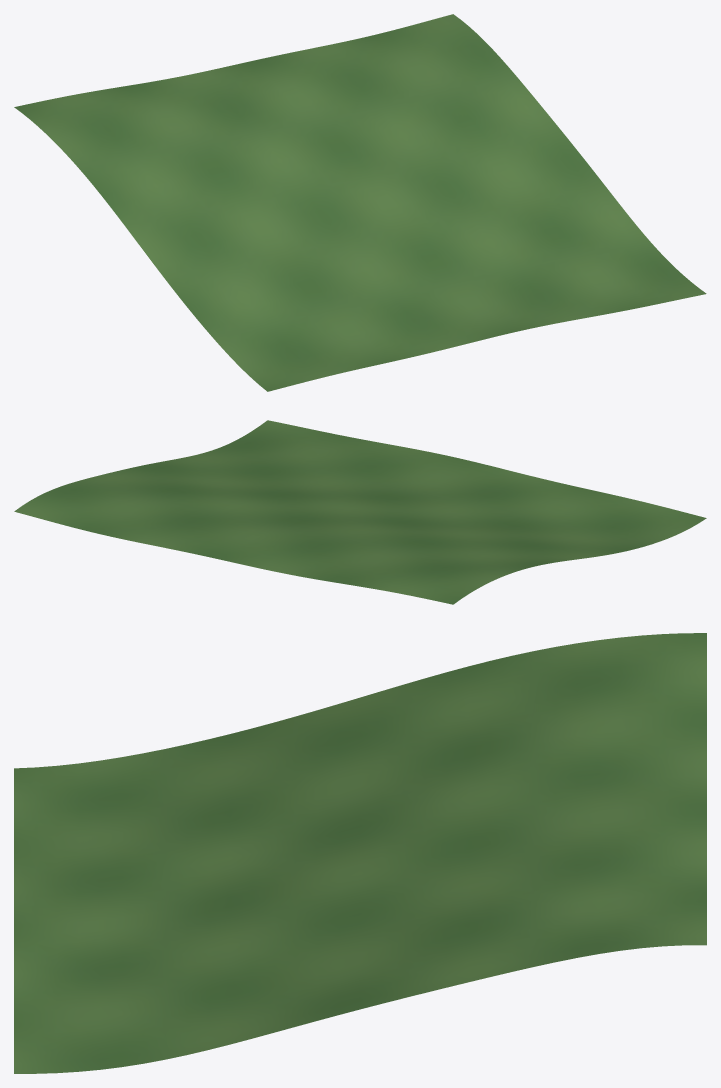
File: chunk_6_0.glb
The picture shows the model from 3 angles, top to bottom: view 1: azimuth 30°, elevation 25°; view 2: azimuth 150°, elevation 25°; view 3: azimuth 270°, elevation 25°; orthographic projection. The views are drawn at different scales.
Size of the model in its own units: 512 by 121 by 512.
